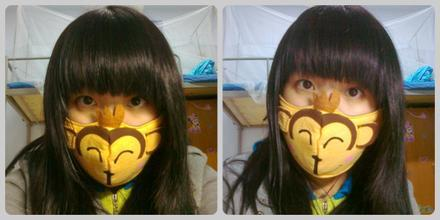OK: (281, 72, 378, 170), (68, 86, 162, 183)
